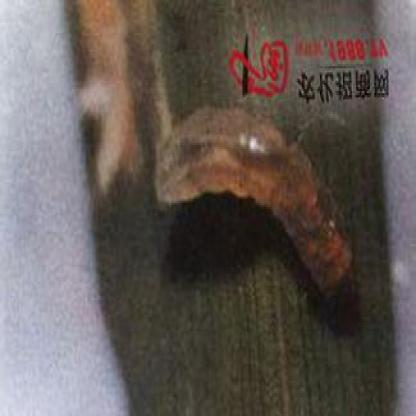whorl-maggot: (155, 106, 358, 302)
